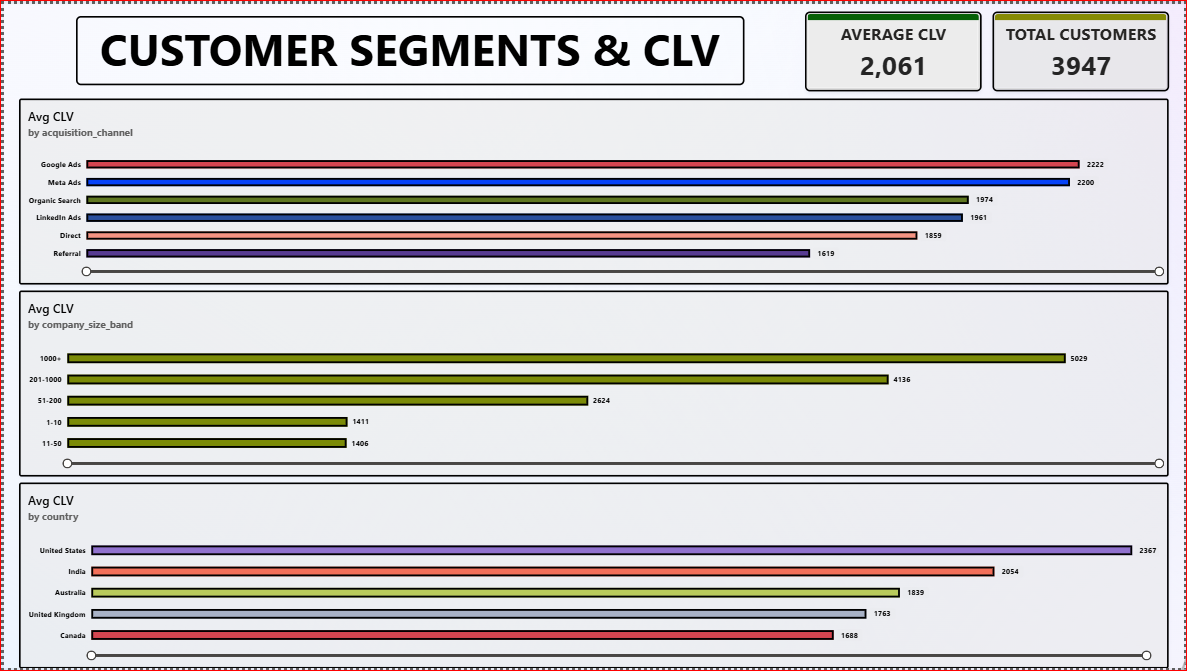

What the dashboard file says about the page in this screenshot:
{"tool":"powerbi","page":{"name":"Customer Segments & CLV","canvas":[1920,1080],"ordinal":3},"visuals":[{"type":"clusteredBarChart","fields":{"Category":["fact_customer_clv.acquisition_channel"],"Y":["fact_customer_clv.Avg CLV"]},"box":[25,152.5,1870,302.5],"z":0},{"type":"clusteredBarChart","fields":{"Category":["fact_customer_clv.company_size_band"],"Y":["fact_customer_clv.Avg CLV"]},"box":[25,465,1870,302.5],"z":1000},{"type":"clusteredBarChart","fields":{"Category":["fact_customer_clv.country"],"Y":["fact_customer_clv.Avg CLV"]},"box":[25,777.5,1870,302.5],"z":2000},{"type":"cardVisual","fields":{"Data":["fact_customer_clv.Total Customers"]},"box":[1608.3,11.7,287.5,130],"z":3000},{"type":"cardVisual","fields":{"Data":["fact_customer_clv.Avg CLV"]},"box":[1303.3,11.7,287.5,130],"z":4000}]}

Visuals, with their boxes in screenshot pixels (x1, y1, x2, y2), scaled from the page's 1920x1080 canvas onto the 1187x671 screenshot:
clusteredBarChart - fact_customer_clv.acquisition_channel x fact_customer_clv.Avg CLV: box(15, 95, 1172, 283)
clusteredBarChart - fact_customer_clv.company_size_band x fact_customer_clv.Avg CLV: box(15, 289, 1172, 477)
clusteredBarChart - fact_customer_clv.country x fact_customer_clv.Avg CLV: box(15, 483, 1172, 670)
cardVisual - fact_customer_clv.Total Customers: box(994, 7, 1172, 88)
cardVisual - fact_customer_clv.Avg CLV: box(806, 7, 983, 88)
